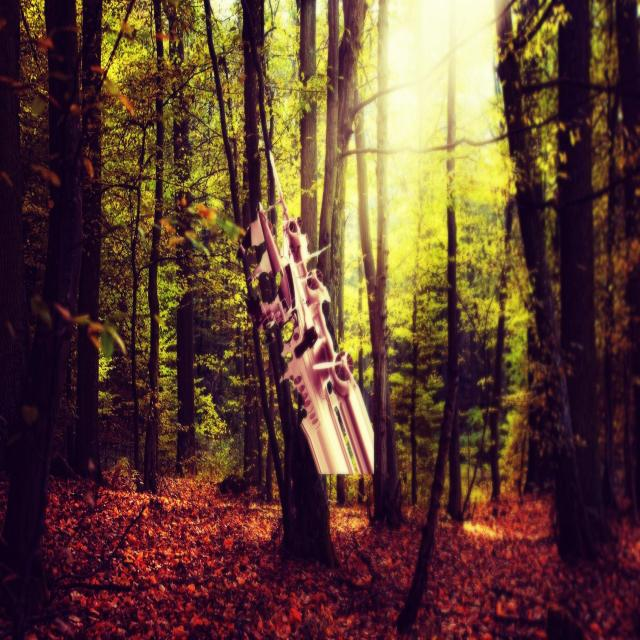airplane: (237, 148, 375, 478)
